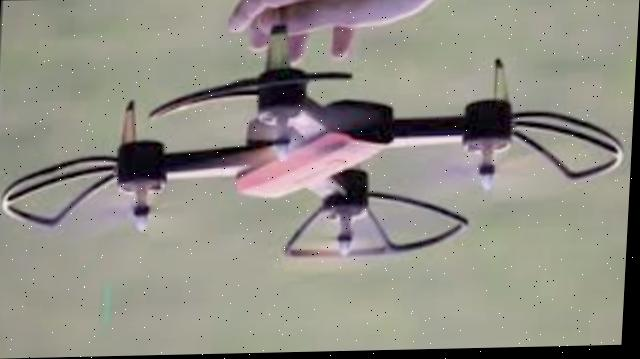drone: (0, 16, 638, 282)
